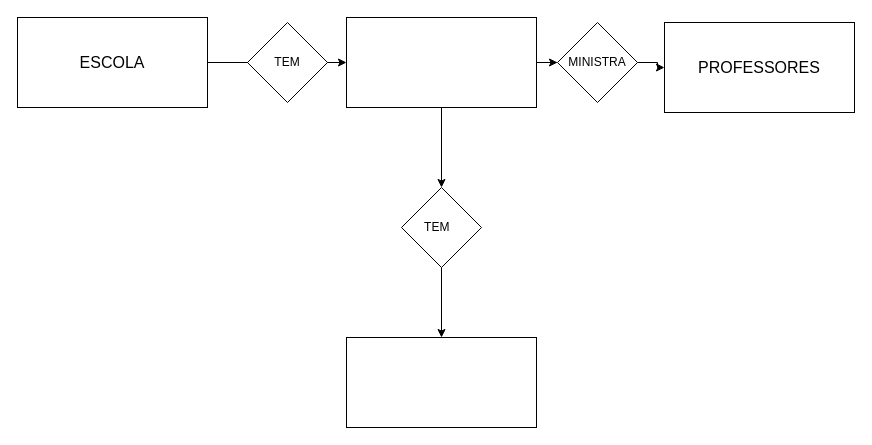
This 872x445 diagram has some shape labels left out. Here are the shapes that lost their labels. From the top down, the centre of each, then its label:
the point at 441,62: TURMAS
the point at 441,382: SALA
